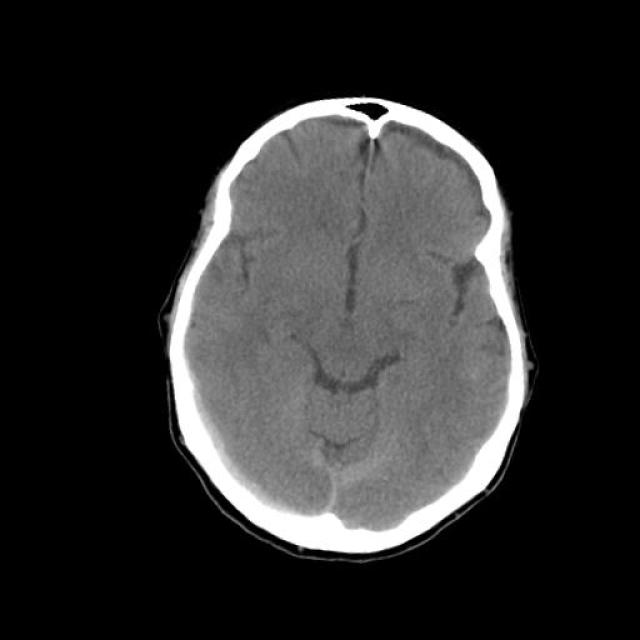Subdural: (147, 358, 306, 532)
